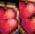heart: (0, 0, 19, 19), (19, 0, 35, 19), (0, 19, 19, 34), (19, 19, 35, 34)
